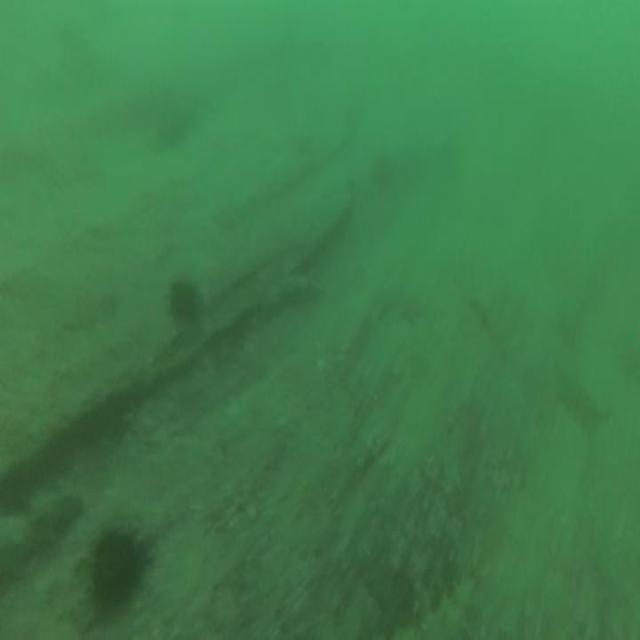echinus: (92, 536, 138, 600), (168, 281, 195, 321)
